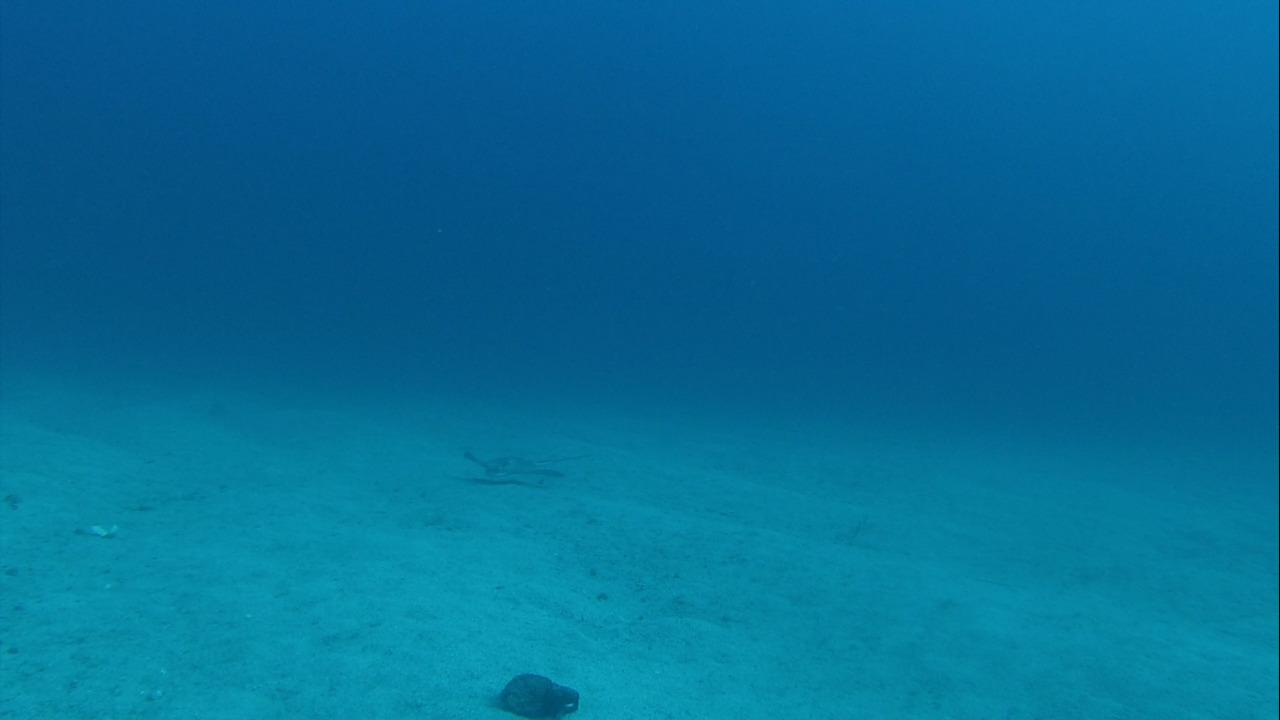myliobatis: (450, 439, 584, 480)
